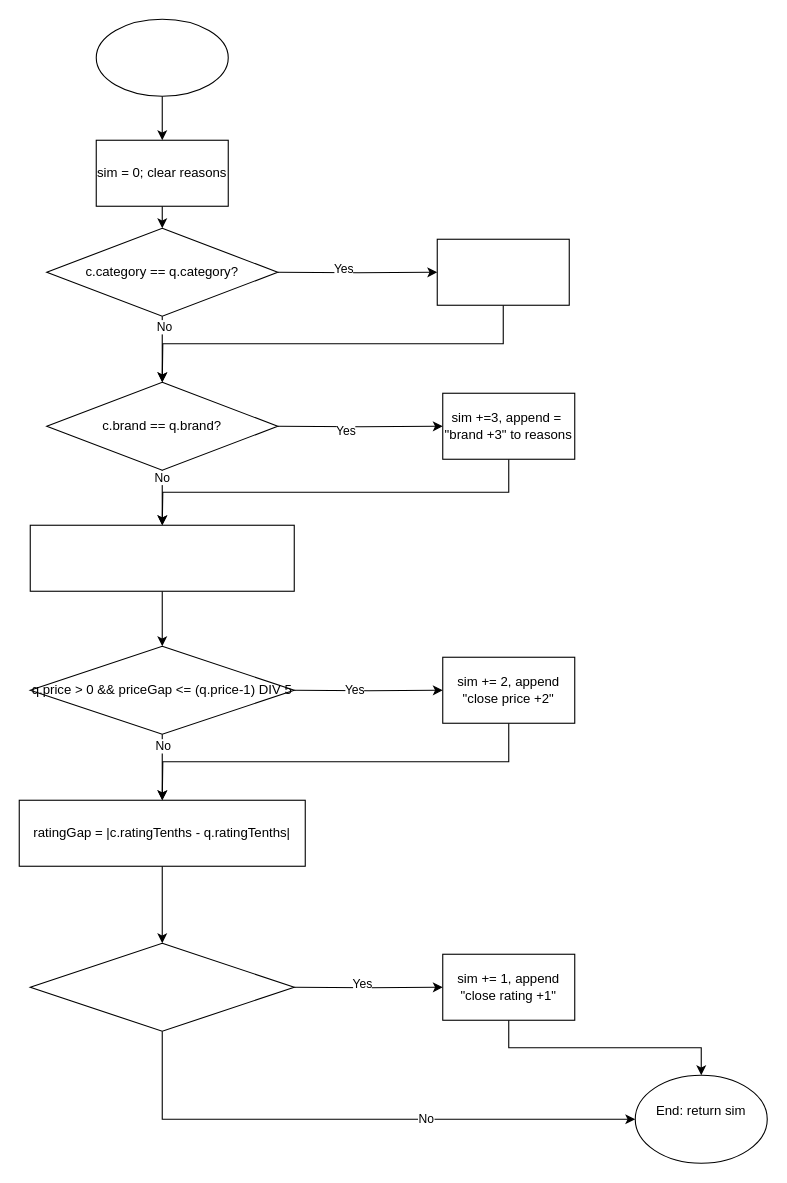
Some shapes in this 787 by 1183 pixel diagram are drawn without their labels. Each missing label, with the box of its shape:
priceGap = |c.price - q.price|: (29, 524, 294, 591)
ratingGap < 3?: (29, 942, 294, 1031)
sim +=4; reasons = "category + 4": (436, 238, 569, 305)
Start: similarity (q, c, reasons): (95, 18, 228, 96)
